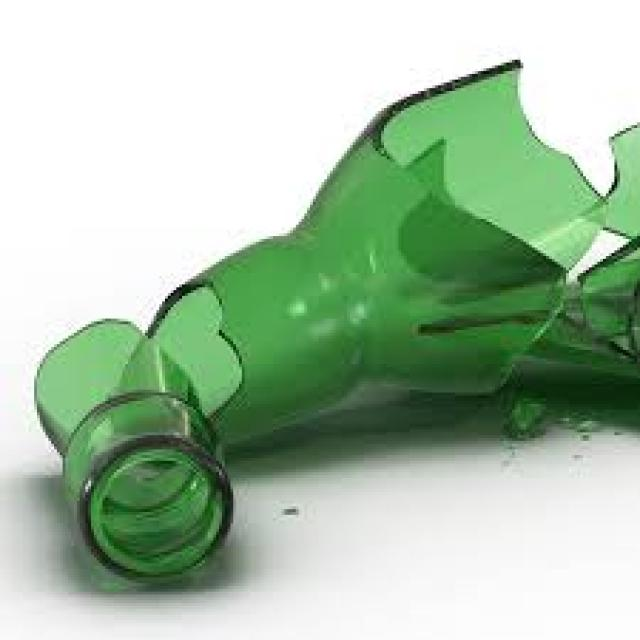glass: (108, 57, 606, 441), (29, 316, 231, 577), (541, 119, 637, 370), (495, 364, 546, 438), (561, 398, 601, 430)
